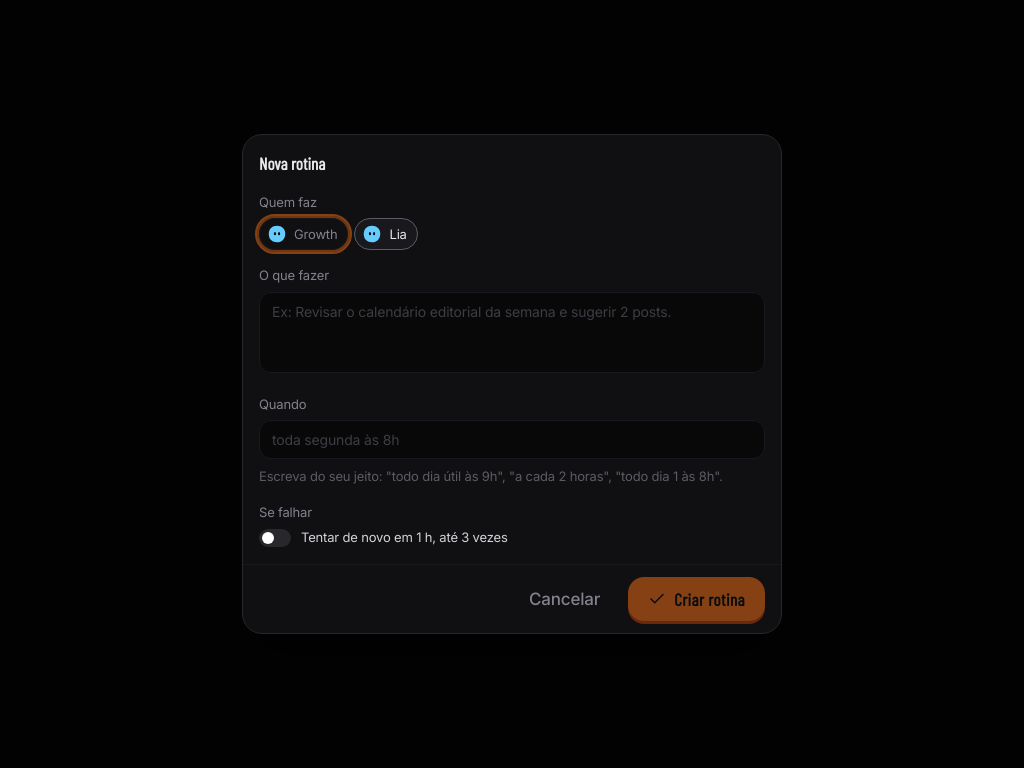
Scenario: NewRoutine › says it did not understand and blocks the button
This screenshot has width=1024, height=768.
Replace the text in the text box labelled "O que fazer" with "revisar" at (512, 332), box [259,292,765,373]
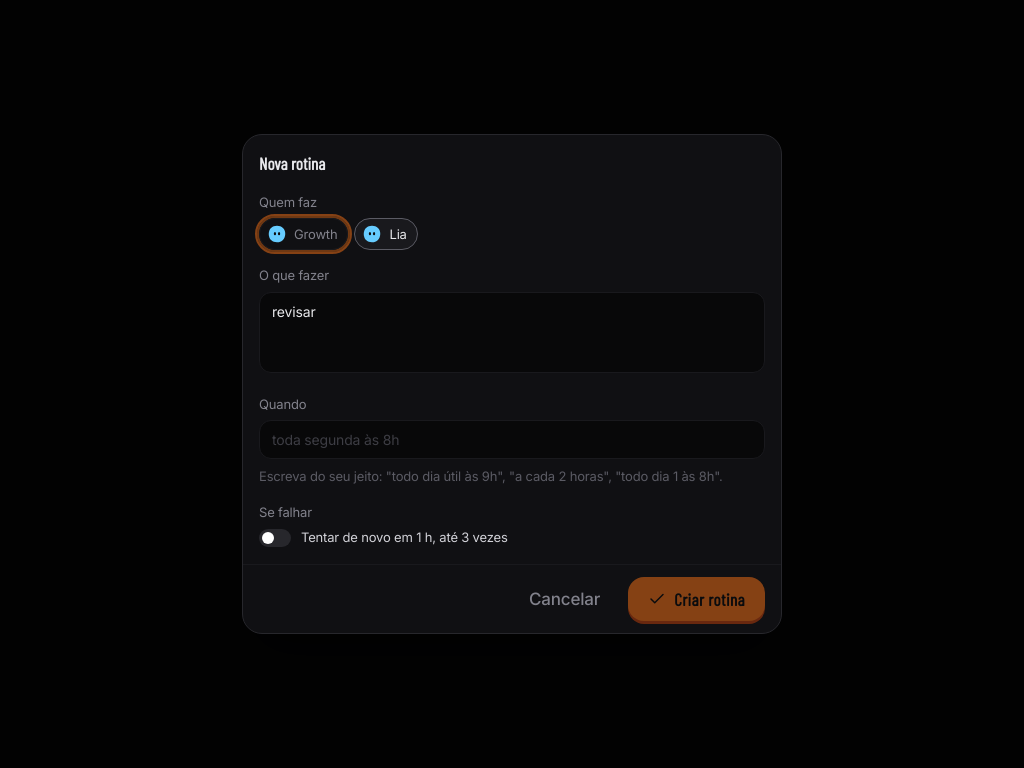
Type "quando der vontade" into the field labelled "Quando".
click(512, 440); type("quando der vontade")  # box [259,420,765,459]
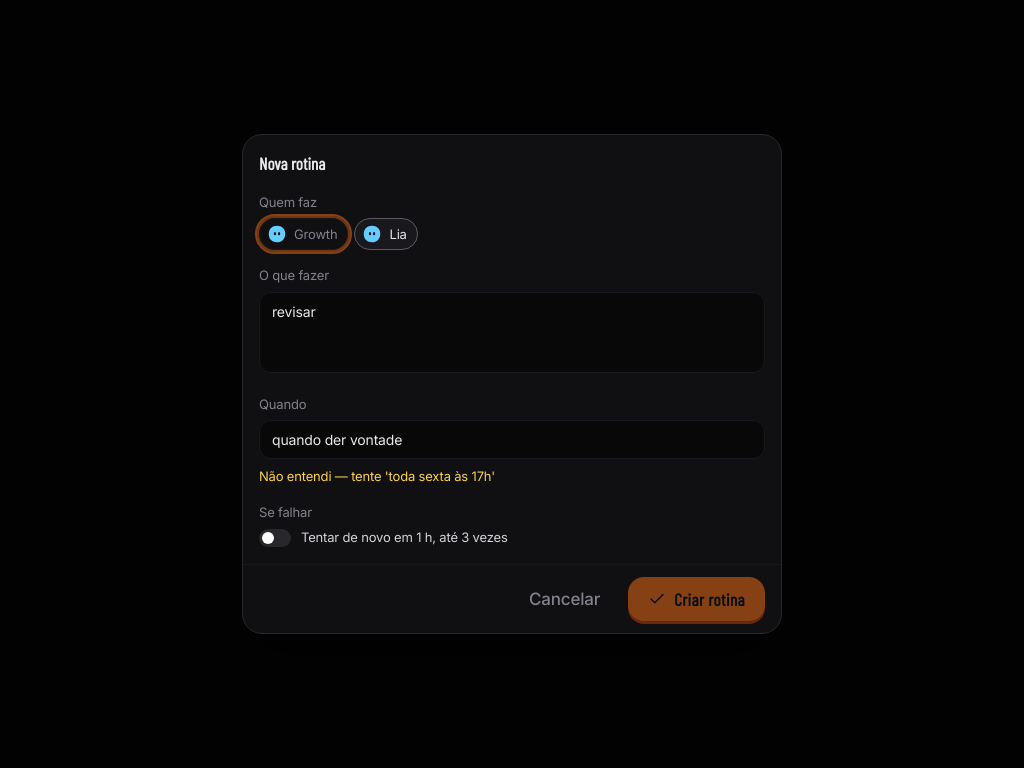
Expected: the button "Criar rotina" is disabled, [628,577,765,621]
Expected: the text "Não entendi — tente 'toda sexta às 17h'" is shown, [259,468,495,484]
